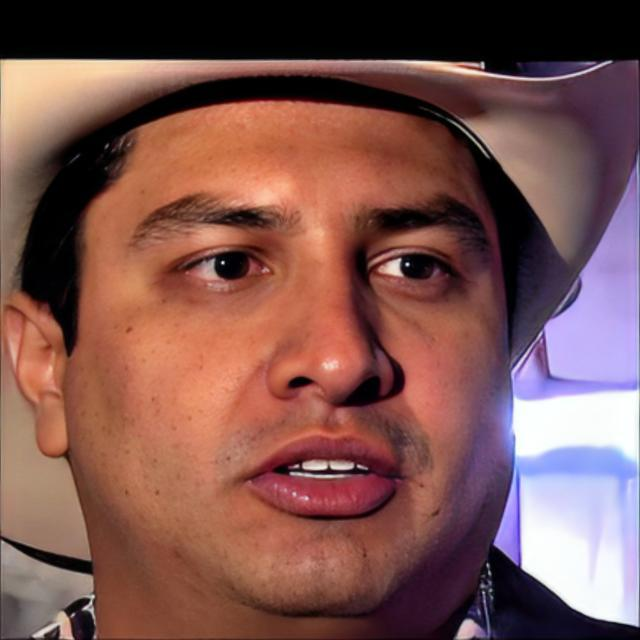anger: (78, 71, 508, 621)
